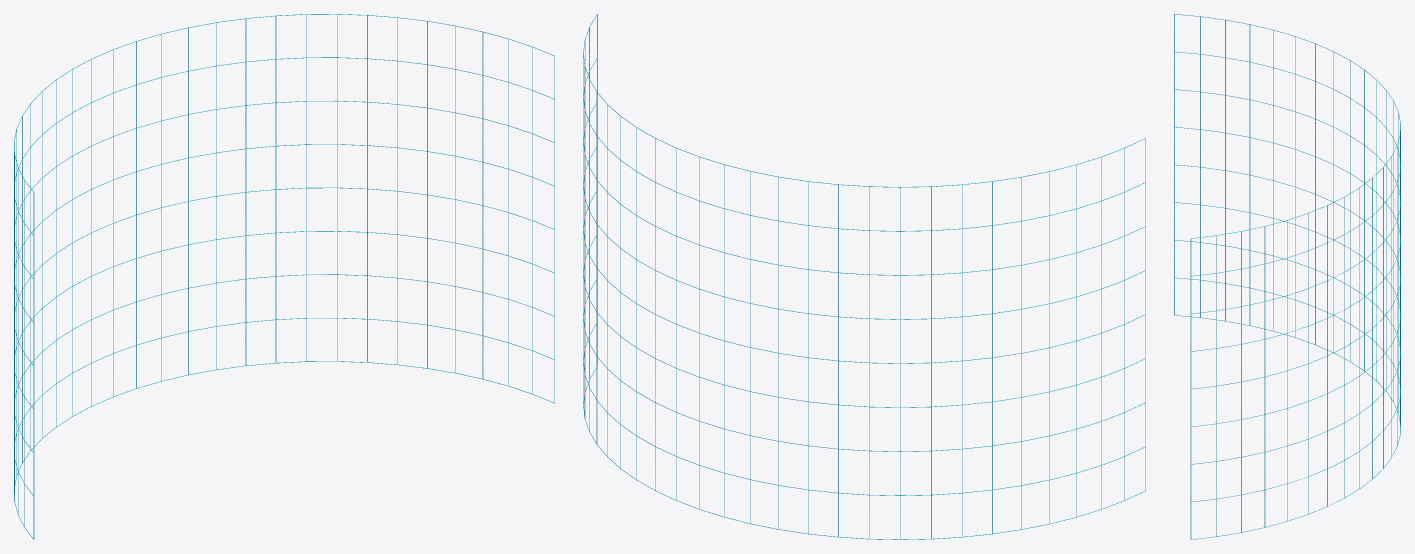
Rendered from test site 04.gltf.
The picture shows the model from 3 angles, left to right: view 1: azimuth 30°, elevation 25°; view 2: azimuth 150°, elevation 25°; view 3: azimuth 270°, elevation 25°; orthographic projection. The views are drawn at different scales.
Parts seen in each view (by area): view 1: Cylinder; view 2: Cylinder; view 3: Cylinder.
Part boxes in pixels (<box>): Cylinder: <box>14,14,554,539</box>; Cylinder: <box>583,14,1145,539</box>; Cylinder: <box>1174,14,1400,539</box>.
Size of the model in its own units: 1587 by 993 by 677.
